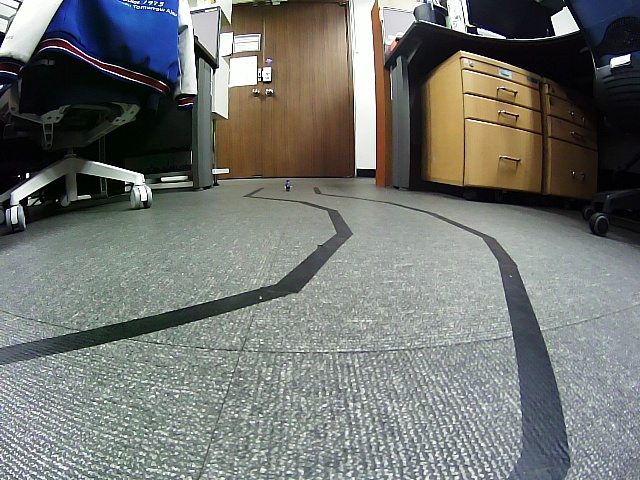person: (284, 178, 292, 191)
